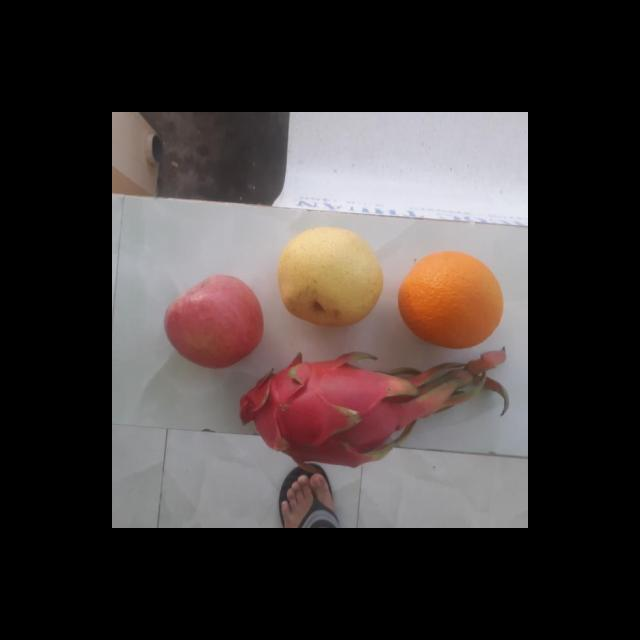apple: (160, 273, 264, 368)
orange: (396, 250, 510, 350)
pear: (273, 226, 386, 326)
pitaya: (224, 353, 416, 459)
